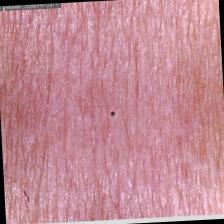Normal: (0, 1, 224, 220)
